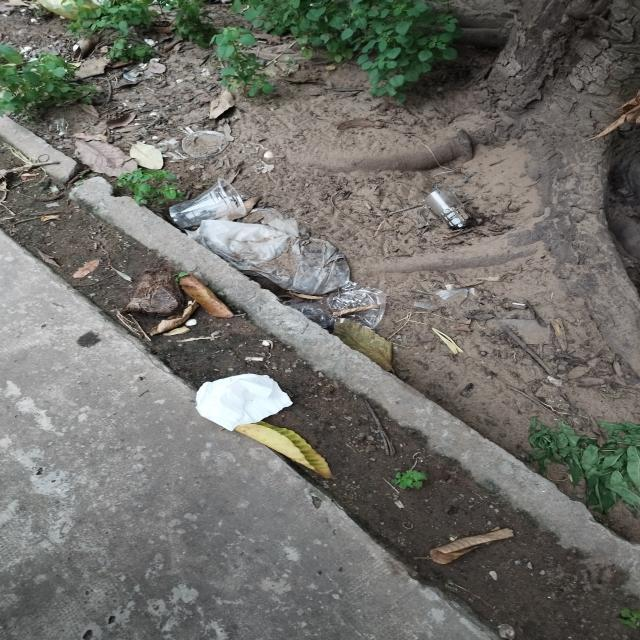bag: (184, 220, 357, 296), (301, 287, 387, 330)
lid: (181, 130, 229, 159), (237, 207, 286, 227)
napkin: (196, 374, 293, 432)
plastic glass: (169, 178, 246, 228)
